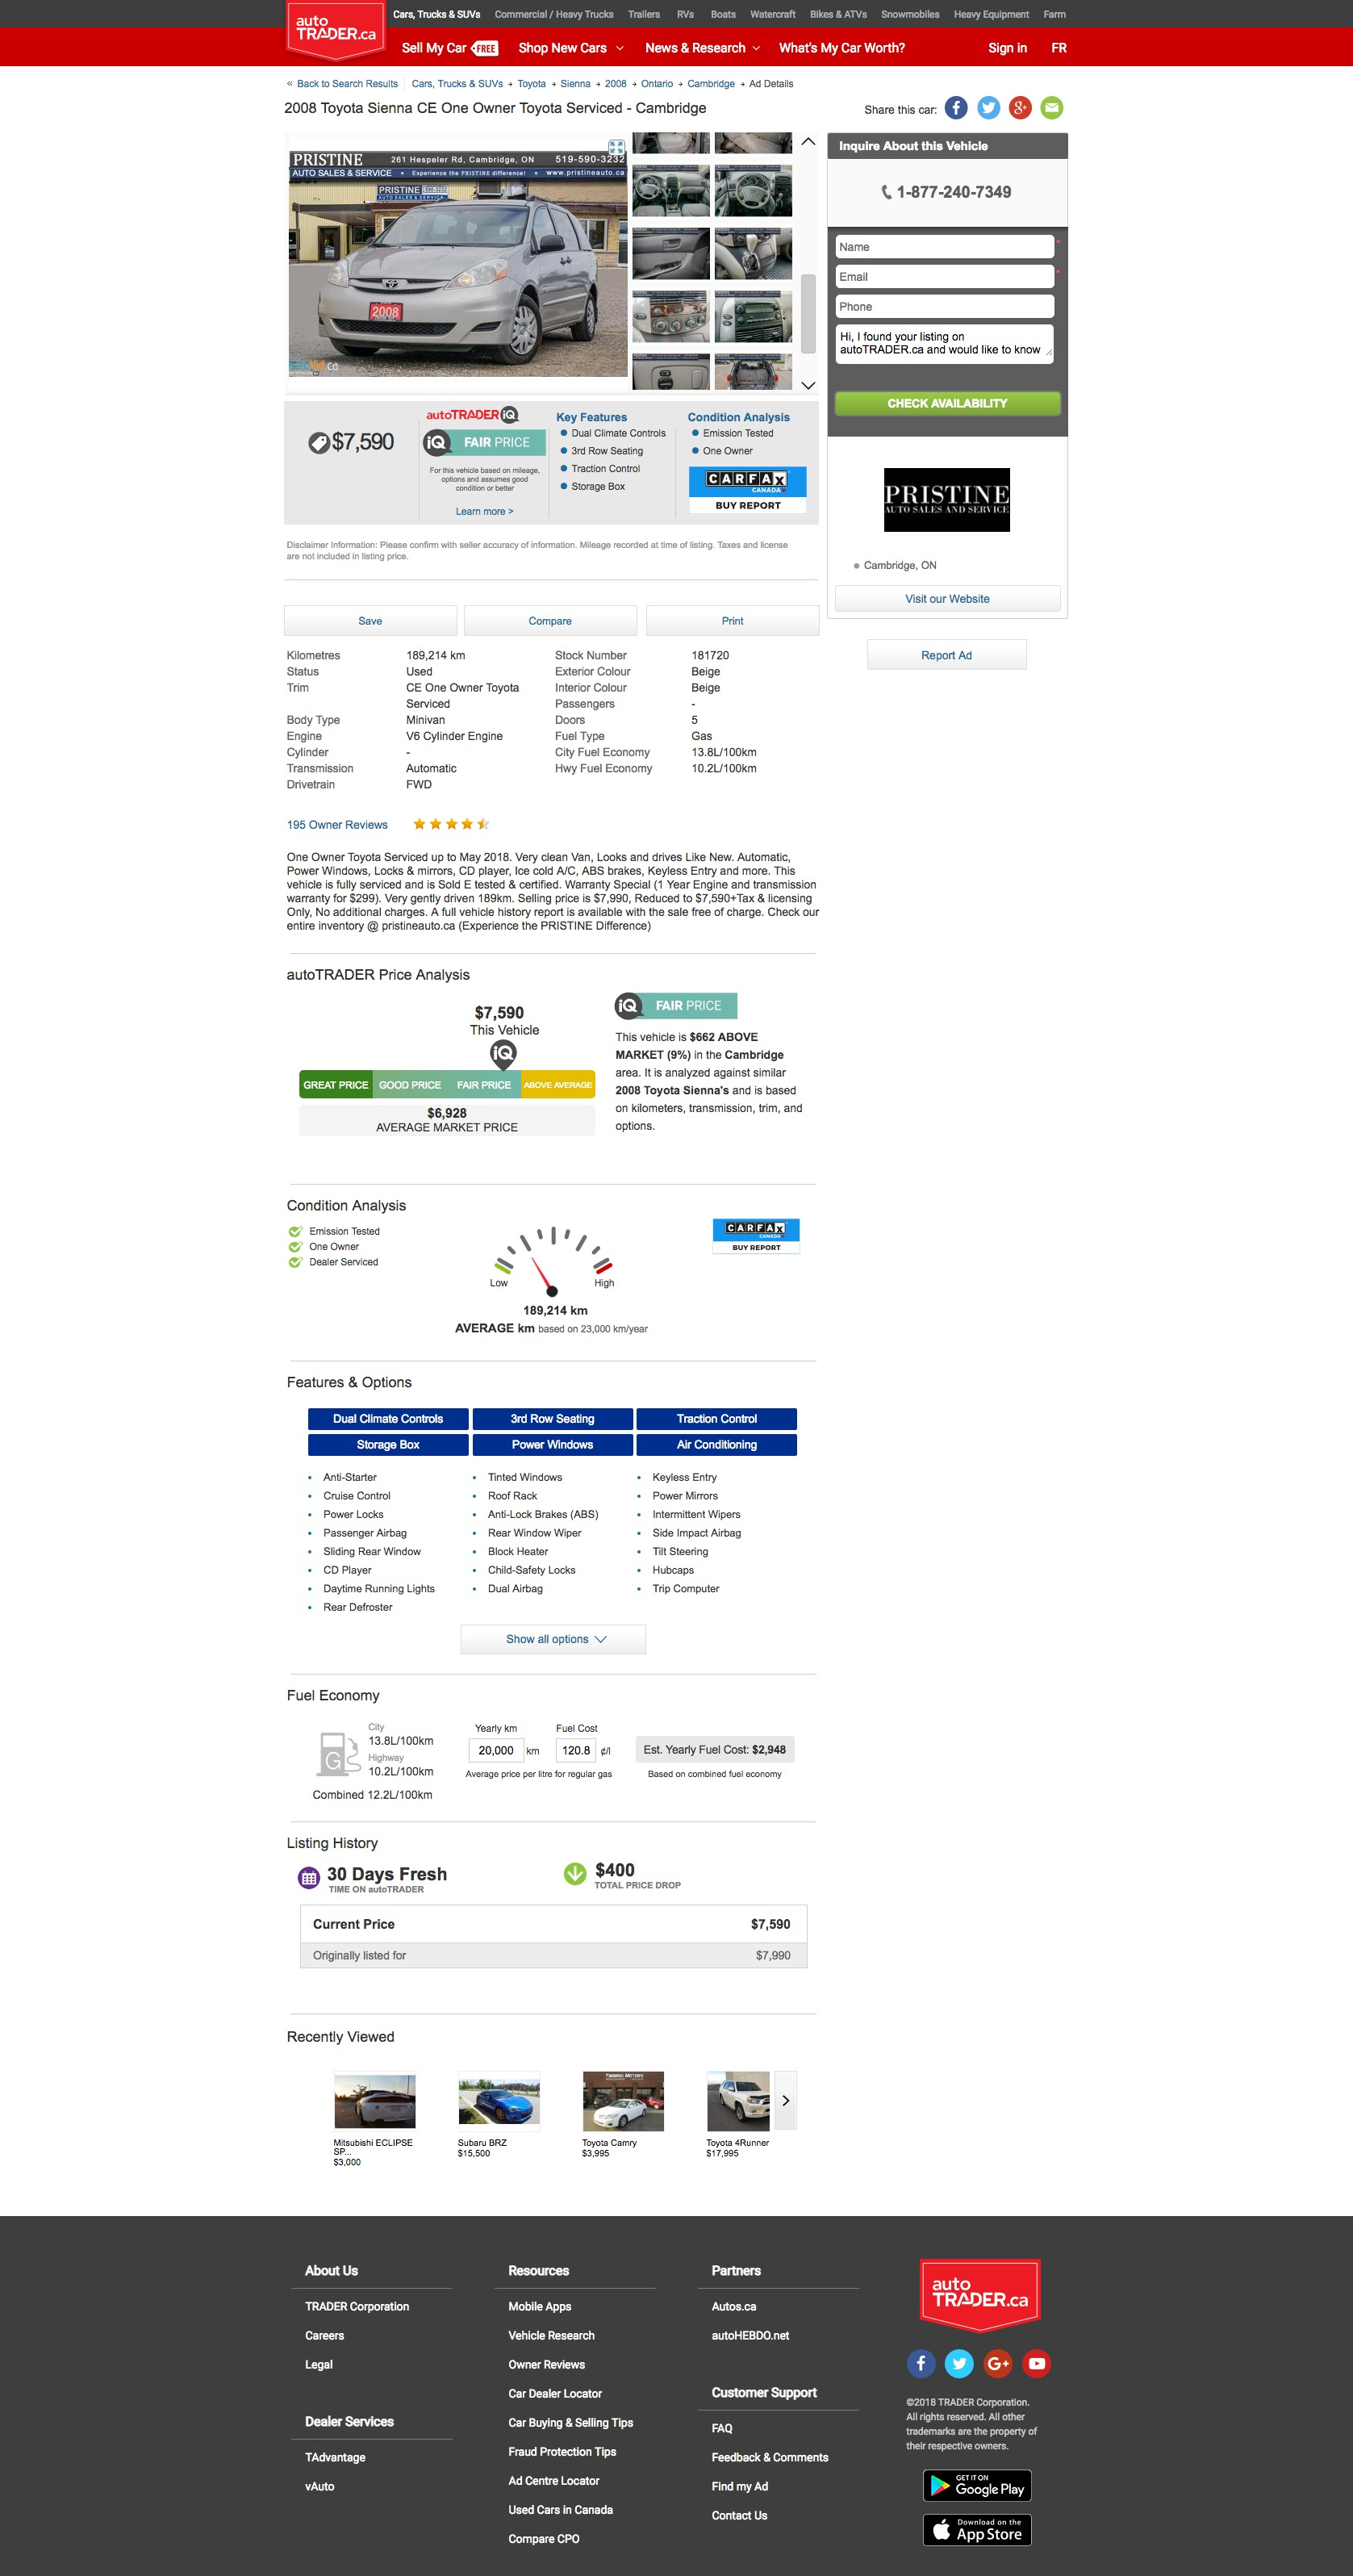car: (801, 378, 820, 395)
